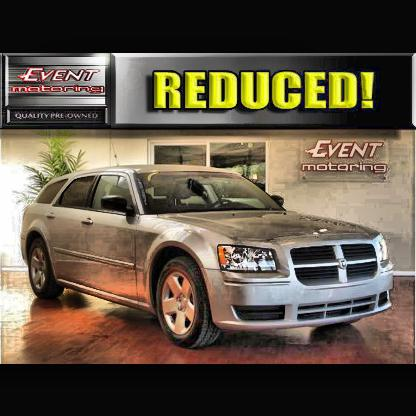Dodge Magnum Wagon 2008: (22, 165, 395, 345)
